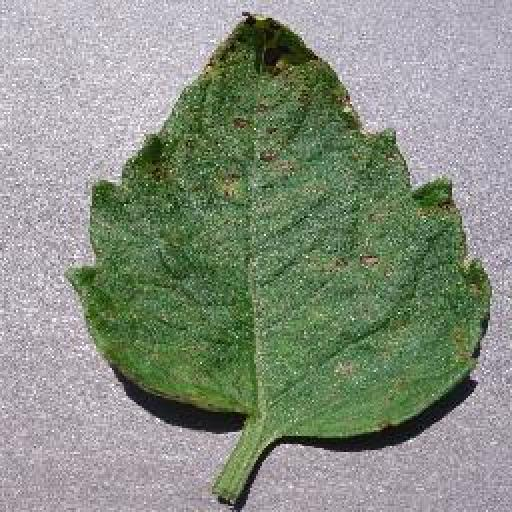Septoria: (66, 10, 494, 438)
